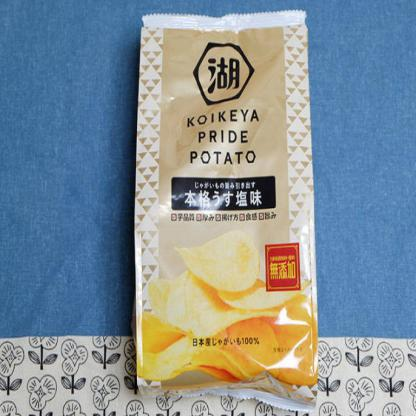potatochip: (129, 7, 321, 412)
